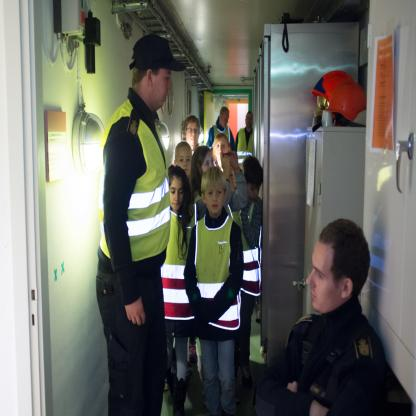Helmet: (308, 66, 357, 128), (328, 78, 369, 128)
